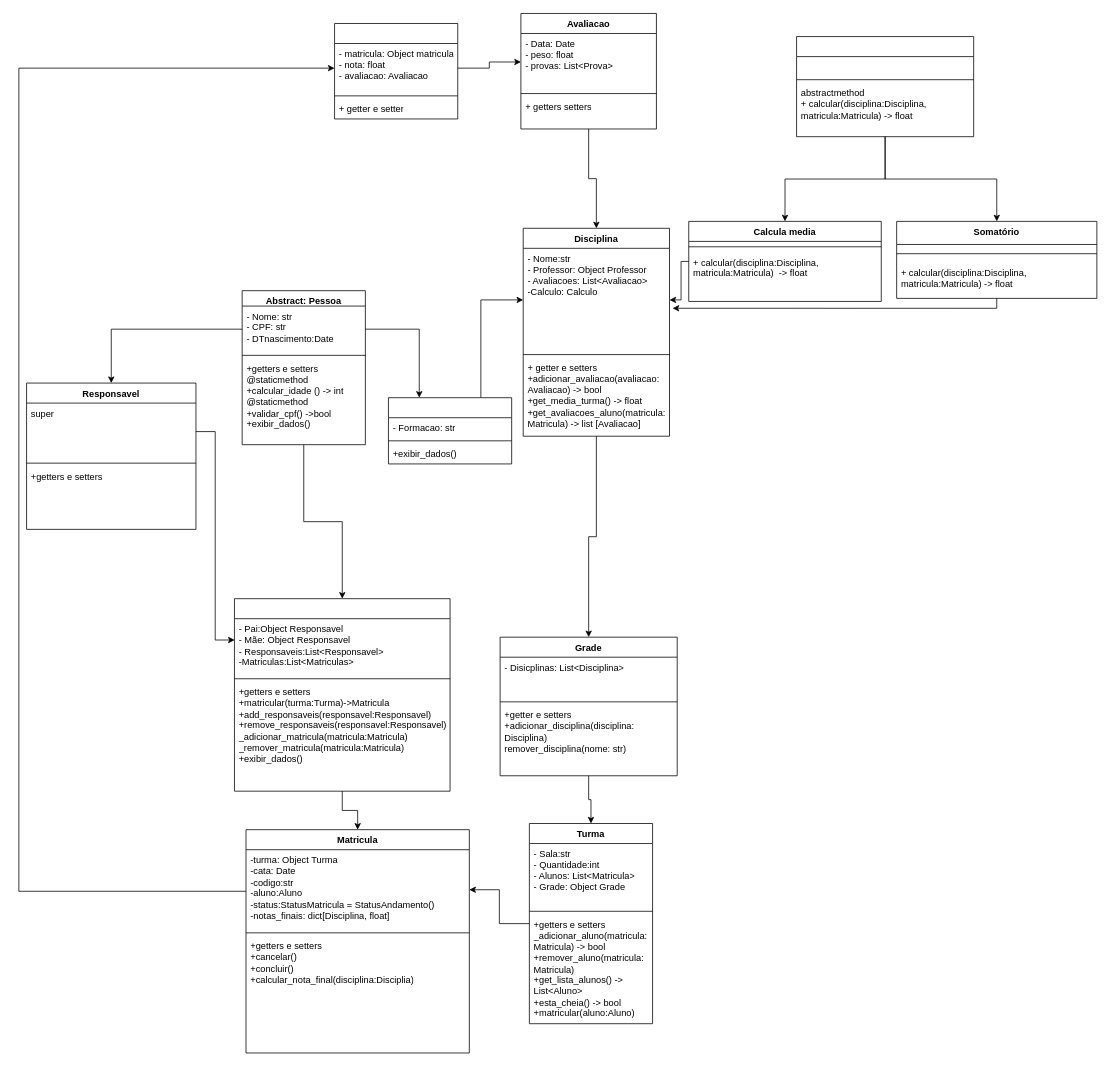
Image size: 1110x1069. Some labels were removed from this diagram. Here are the shapes that lost their labels. From the top down, the box of each, then its label:
(334, 23, 458, 119): Prova
(796, 36, 974, 137): <Abstract> Calculo
(388, 397, 512, 464): Professor
(234, 598, 450, 791): Aluno
